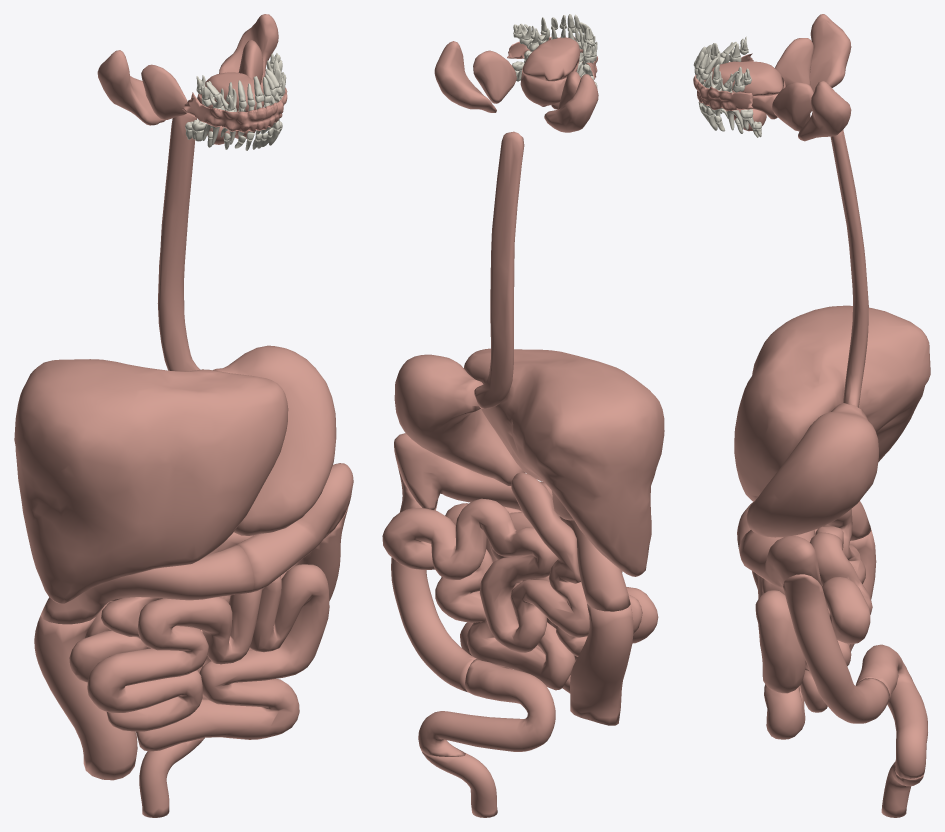
File: pediatric_child_5y_male.digestive.LOD0.glb
The picture shows the model from 3 angles, left to right: view 1: azimuth 30°, elevation 25°; view 2: azimuth 150°, elevation 25°; view 3: azimuth 270°, elevation 25°; orthographic projection. The views are drawn at different scales.
Parts seen in each view (by area): view 1: PEDIATRIC.CHILD_5Y.MALE.DIGESTIVE.LIVER, PEDIATRIC.CHILD_5Y.MALE.DIGESTIVE.SMALL_INTESTINE_WALL, PEDIATRIC.CHILD_5Y.MALE.DIGESTIVE.STOMACH_WALL, PEDIATRIC.CHILD_5Y.MALE.DIGESTIVE.ASCENDING_COLON_WALL, PEDIATRIC.CHILD_5Y.MALE.DIGESTIVE.TRANSVERSE_COLON_WALL.R, PEDIATRIC.CHILD_5Y.MALE.DIGESTIVE.OESOPHAGUS_WALL, PEDIATRIC.CHILD_5Y.MALE.DIGESTIVE.TRANSVERSE_COLON_WALL.L, PEDIATRIC.CHILD_5Y.MALE.DIGESTIVE.SALIVARY_GLANDS.R, PEDIATRIC.CHILD_5Y.MALE.DIGESTIVE.RECTUM_WALL, PEDIATRIC.CHILD_5Y.MALE.DIGESTIVE.SALIVARY_GLANDS.L, PEDIATRIC.CHILD_5Y.MALE.DIGESTIVE.PERMANENT_CEMENTUM, PEDIATRIC.CHILD_5Y.MALE.DIGESTIVE.ORAL_MUCOSA_LIP_AND_CHEEKS (+4 smaller); view 2: PEDIATRIC.CHILD_5Y.MALE.DIGESTIVE.SMALL_INTESTINE_WALL, PEDIATRIC.CHILD_5Y.MALE.DIGESTIVE.LIVER, PEDIATRIC.CHILD_5Y.MALE.DIGESTIVE.STOMACH_WALL, PEDIATRIC.CHILD_5Y.MALE.DIGESTIVE.SIGMOID_COLON_WALL, PEDIATRIC.CHILD_5Y.MALE.DIGESTIVE.OESOPHAGUS_WALL, PEDIATRIC.CHILD_5Y.MALE.DIGESTIVE.ASCENDING_COLON_WALL, PEDIATRIC.CHILD_5Y.MALE.DIGESTIVE.DESCENDING_COLON_WALL, PEDIATRIC.CHILD_5Y.MALE.DIGESTIVE.TRANSVERSE_COLON_WALL.L, PEDIATRIC.CHILD_5Y.MALE.DIGESTIVE.SALIVARY_GLANDS.L, PEDIATRIC.CHILD_5Y.MALE.DIGESTIVE.TRANSVERSE_COLON_WALL.R, PEDIATRIC.CHILD_5Y.MALE.DIGESTIVE.SALIVARY_GLANDS.R, PEDIATRIC.CHILD_5Y.MALE.DIGESTIVE.RECTUM_WALL (+4 smaller); view 3: PEDIATRIC.CHILD_5Y.MALE.DIGESTIVE.LIVER, PEDIATRIC.CHILD_5Y.MALE.DIGESTIVE.SMALL_INTESTINE_WALL, PEDIATRIC.CHILD_5Y.MALE.DIGESTIVE.STOMACH_WALL, PEDIATRIC.CHILD_5Y.MALE.DIGESTIVE.DESCENDING_COLON_WALL, PEDIATRIC.CHILD_5Y.MALE.DIGESTIVE.SIGMOID_COLON_WALL, PEDIATRIC.CHILD_5Y.MALE.DIGESTIVE.OESOPHAGUS_WALL, PEDIATRIC.CHILD_5Y.MALE.DIGESTIVE.SALIVARY_GLANDS.R, PEDIATRIC.CHILD_5Y.MALE.DIGESTIVE.SALIVARY_GLANDS.L, PEDIATRIC.CHILD_5Y.MALE.DIGESTIVE.TRANSVERSE_COLON_WALL.L, PEDIATRIC.CHILD_5Y.MALE.DIGESTIVE.PERMANENT_CEMENTUM, PEDIATRIC.CHILD_5Y.MALE.DIGESTIVE.ORAL_MUCOSA_MOUTH_FLOOR, PEDIATRIC.CHILD_5Y.MALE.DIGESTIVE.RECTUM_WALL (+5 smaller).
Boxes of the visible parts, box(x1,y1,x2,y2) form: PEDIATRIC.CHILD_5Y.MALE.DIGESTIVE.LIVER: box(14, 359, 288, 603); PEDIATRIC.CHILD_5Y.MALE.DIGESTIVE.SMALL_INTESTINE_WALL: box(69, 532, 329, 751); PEDIATRIC.CHILD_5Y.MALE.DIGESTIVE.STOMACH_WALL: box(213, 345, 336, 535); PEDIATRIC.CHILD_5Y.MALE.DIGESTIVE.ASCENDING_COLON_WALL: box(34, 615, 137, 780); PEDIATRIC.CHILD_5Y.MALE.DIGESTIVE.TRANSVERSE_COLON_WALL.R: box(40, 545, 254, 624); PEDIATRIC.CHILD_5Y.MALE.DIGESTIVE.OESOPHAGUS_WALL: box(157, 113, 199, 371); PEDIATRIC.CHILD_5Y.MALE.DIGESTIVE.TRANSVERSE_COLON_WALL.L: box(236, 463, 353, 592); PEDIATRIC.CHILD_5Y.MALE.DIGESTIVE.SALIVARY_GLANDS.R: box(97, 50, 236, 144); PEDIATRIC.CHILD_5Y.MALE.DIGESTIVE.RECTUM_WALL: box(139, 738, 204, 817); PEDIATRIC.CHILD_5Y.MALE.DIGESTIVE.SALIVARY_GLANDS.L: box(219, 14, 278, 138); PEDIATRIC.CHILD_5Y.MALE.DIGESTIVE.PERMANENT_CEMENTUM: box(185, 53, 282, 150); PEDIATRIC.CHILD_5Y.MALE.DIGESTIVE.ORAL_MUCOSA_LIP_AND_CHEEKS: box(182, 87, 287, 132); PEDIATRIC.CHILD_5Y.MALE.DIGESTIVE.SMALL_INTESTINE_WALL: box(382, 472, 658, 693); PEDIATRIC.CHILD_5Y.MALE.DIGESTIVE.LIVER: box(464, 348, 664, 576); PEDIATRIC.CHILD_5Y.MALE.DIGESTIVE.STOMACH_WALL: box(394, 354, 525, 485); PEDIATRIC.CHILD_5Y.MALE.DIGESTIVE.SIGMOID_COLON_WALL: box(418, 659, 555, 756); PEDIATRIC.CHILD_5Y.MALE.DIGESTIVE.OESOPHAGUS_WALL: box(474, 131, 524, 409); PEDIATRIC.CHILD_5Y.MALE.DIGESTIVE.ASCENDING_COLON_WALL: box(570, 604, 633, 725); PEDIATRIC.CHILD_5Y.MALE.DIGESTIVE.DESCENDING_COLON_WALL: box(391, 466, 476, 691); PEDIATRIC.CHILD_5Y.MALE.DIGESTIVE.TRANSVERSE_COLON_WALL.L: box(394, 433, 522, 511); PEDIATRIC.CHILD_5Y.MALE.DIGESTIVE.SALIVARY_GLANDS.L: box(434, 41, 546, 112); PEDIATRIC.CHILD_5Y.MALE.DIGESTIVE.TRANSVERSE_COLON_WALL.R: box(540, 481, 630, 611); PEDIATRIC.CHILD_5Y.MALE.DIGESTIVE.SALIVARY_GLANDS.R: box(544, 71, 598, 132); PEDIATRIC.CHILD_5Y.MALE.DIGESTIVE.RECTUM_WALL: box(422, 751, 497, 817); PEDIATRIC.CHILD_5Y.MALE.DIGESTIVE.LIVER: box(734, 305, 930, 501); PEDIATRIC.CHILD_5Y.MALE.DIGESTIVE.SMALL_INTESTINE_WALL: box(752, 509, 872, 739); PEDIATRIC.CHILD_5Y.MALE.DIGESTIVE.STOMACH_WALL: box(746, 403, 878, 537); PEDIATRIC.CHILD_5Y.MALE.DIGESTIVE.DESCENDING_COLON_WALL: box(783, 574, 889, 723); PEDIATRIC.CHILD_5Y.MALE.DIGESTIVE.SIGMOID_COLON_WALL: box(855, 644, 927, 778); PEDIATRIC.CHILD_5Y.MALE.DIGESTIVE.OESOPHAGUS_WALL: box(830, 130, 868, 407); PEDIATRIC.CHILD_5Y.MALE.DIGESTIVE.SALIVARY_GLANDS.R: box(775, 14, 851, 92); PEDIATRIC.CHILD_5Y.MALE.DIGESTIVE.SALIVARY_GLANDS.L: box(734, 81, 851, 141); PEDIATRIC.CHILD_5Y.MALE.DIGESTIVE.TRANSVERSE_COLON_WALL.L: box(739, 530, 822, 587); PEDIATRIC.CHILD_5Y.MALE.DIGESTIVE.PERMANENT_CEMENTUM: box(695, 36, 761, 137); PEDIATRIC.CHILD_5Y.MALE.DIGESTIVE.ORAL_MUCOSA_MOUTH_FLOOR: box(710, 61, 783, 96); PEDIATRIC.CHILD_5Y.MALE.DIGESTIVE.RECTUM_WALL: box(881, 761, 923, 817).
Size of the model in its own units: 0.188 by 0.4792 by 0.1346.
